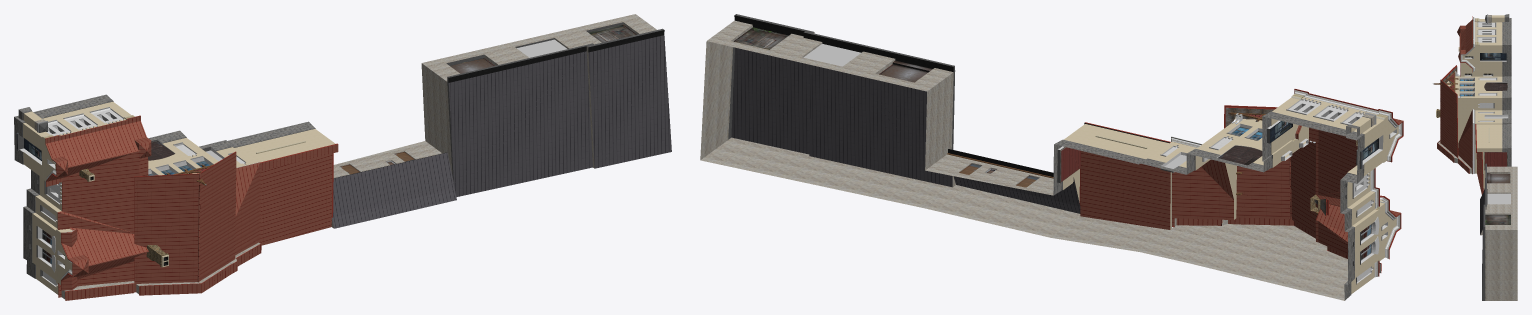
Rendered from Aia_12.obj.
3 views of the same model, side by side, from view 1: azimuth 30°, elevation 25°; view 2: azimuth 150°, elevation 25°; view 3: azimuth 270°, elevation 25° (orthographic). The views are drawn at different scales.
Parts seen in each view (by area): view 1: Aia_12; view 2: Aia_12; view 3: Aia_12.
Boxes of the visible parts, x1=… form: Aia_12: x1=14, y1=14, x2=671, y2=300; Aia_12: x1=700, y1=14, x2=1403, y2=300; Aia_12: x1=1433, y1=14, x2=1517, y2=300.
Size of the model in its own units: 56.89 by 15.36 by 11.21.
